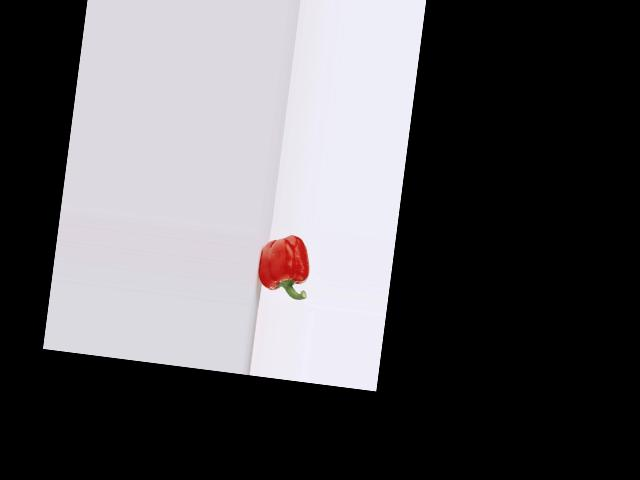bell_pepper: (252, 228, 316, 307)
